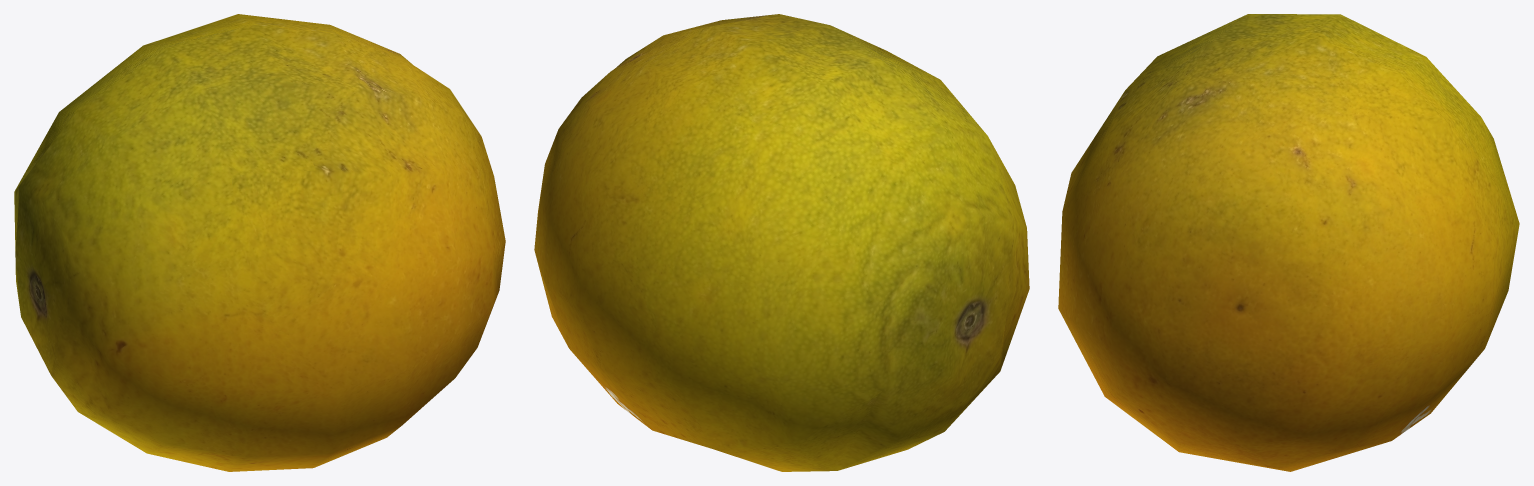
The model's file is A25_Orange_low.fbx.
3 renders of one model, left to right at view 1: azimuth 30°, elevation 25°; view 2: azimuth 150°, elevation 25°; view 3: azimuth 270°, elevation 25°, orthographic.
Parts seen in each view (by area): view 1: A25_Orange_low; view 2: A25_Orange_low; view 3: A25_Orange_low.
Part boxes in pixels (box(x1,y1,x2,y2)): A25_Orange_low: box(14, 14, 505, 471); A25_Orange_low: box(534, 14, 1029, 471); A25_Orange_low: box(1058, 14, 1519, 471).
Size of the model in its own units: 7.5 by 7.05 by 6.87.
Materials: 1 (1 with a texture image).
